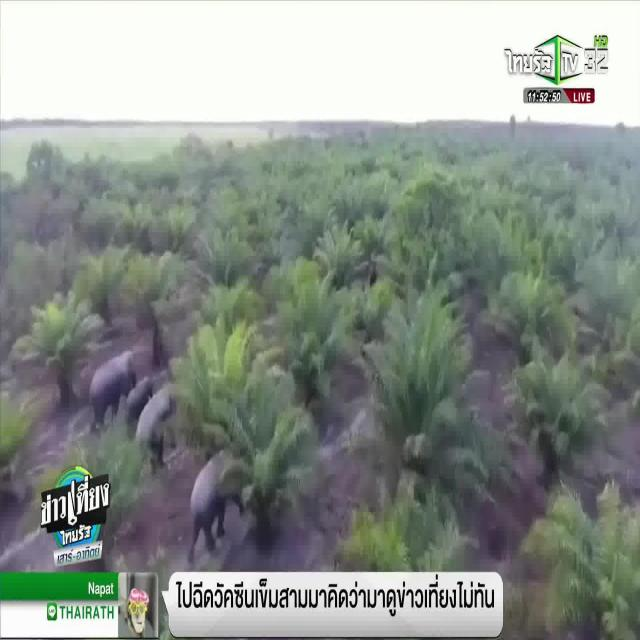Elephant: (192, 456, 231, 545), (91, 348, 133, 406), (142, 396, 175, 450), (128, 378, 152, 414)
